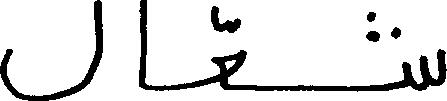X: (0, 0, 103, 100), (210, 1, 244, 94), (403, 44, 446, 95), (139, 0, 147, 100)
